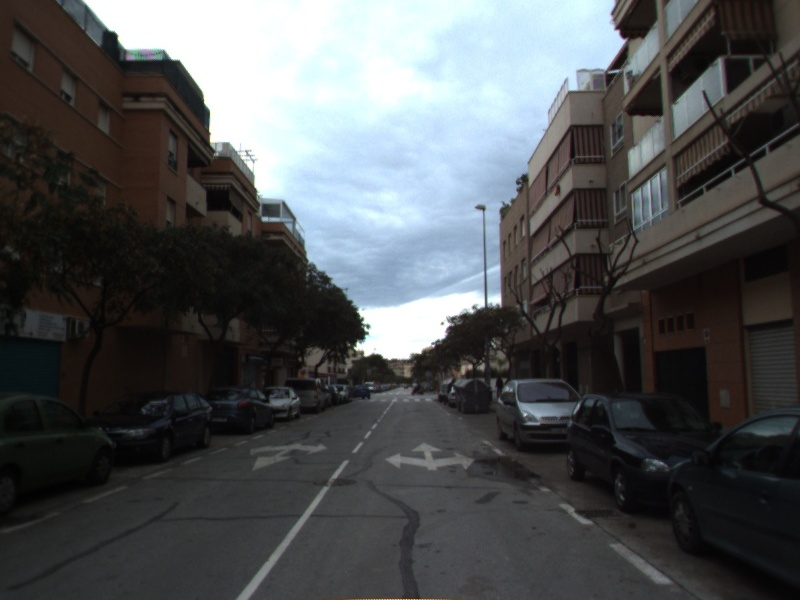STRAIGHT_LEFT_RIGHT: (383, 440, 478, 472)
